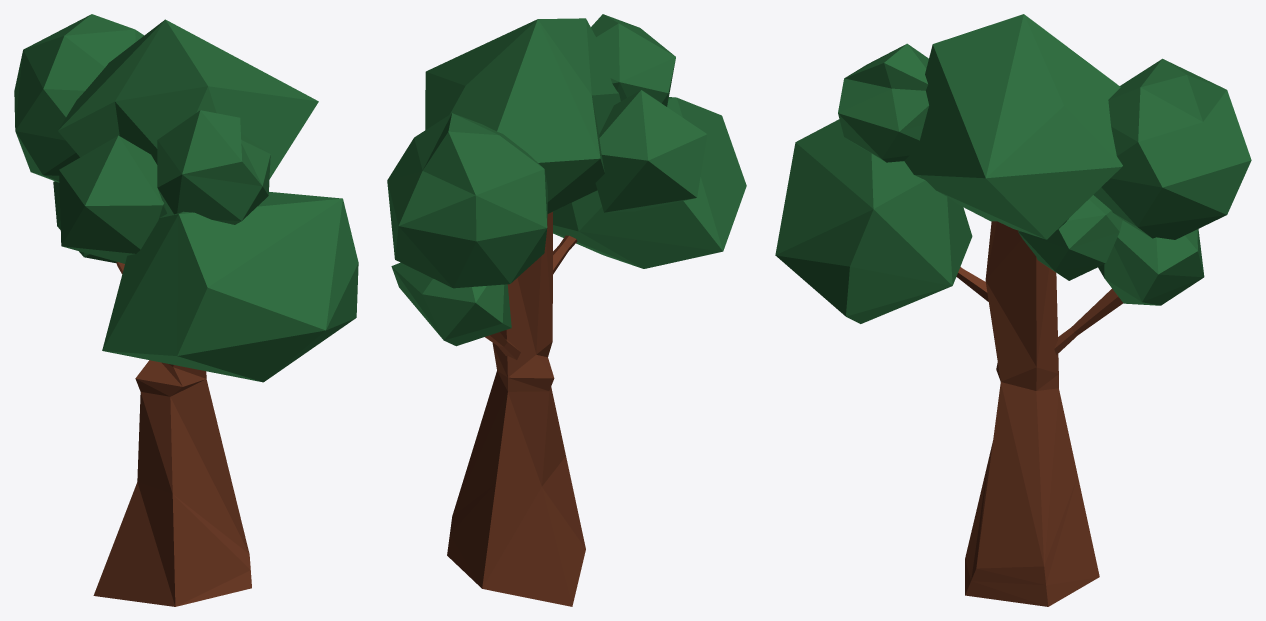
The model's file is tree3.dae.
3 views of the same model, side by side, from view 1: azimuth 30°, elevation 25°; view 2: azimuth 150°, elevation 25°; view 3: azimuth 270°, elevation 25° (orthographic). The views are drawn at different scales.
Visible parts, largest first — view 1: Leaves, Trunk; view 2: Leaves, Trunk, Branches; view 3: Leaves, Trunk, Branches.
Part boxes in pixels (x1,y1,x2,y2): Leaves: (14, 14, 358, 382); Trunk: (93, 360, 251, 606); Leaves: (387, 14, 746, 346); Trunk: (447, 212, 585, 606); Branches: (485, 235, 577, 359); Leaves: (775, 14, 1251, 323); Trunk: (965, 221, 1099, 606); Branches: (956, 267, 1123, 354).
Bounding box in the file's own units: 1.75 × 2.73 × 3.61.
